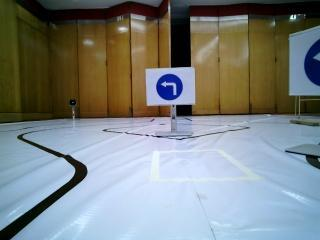left: (149, 73, 195, 102)
